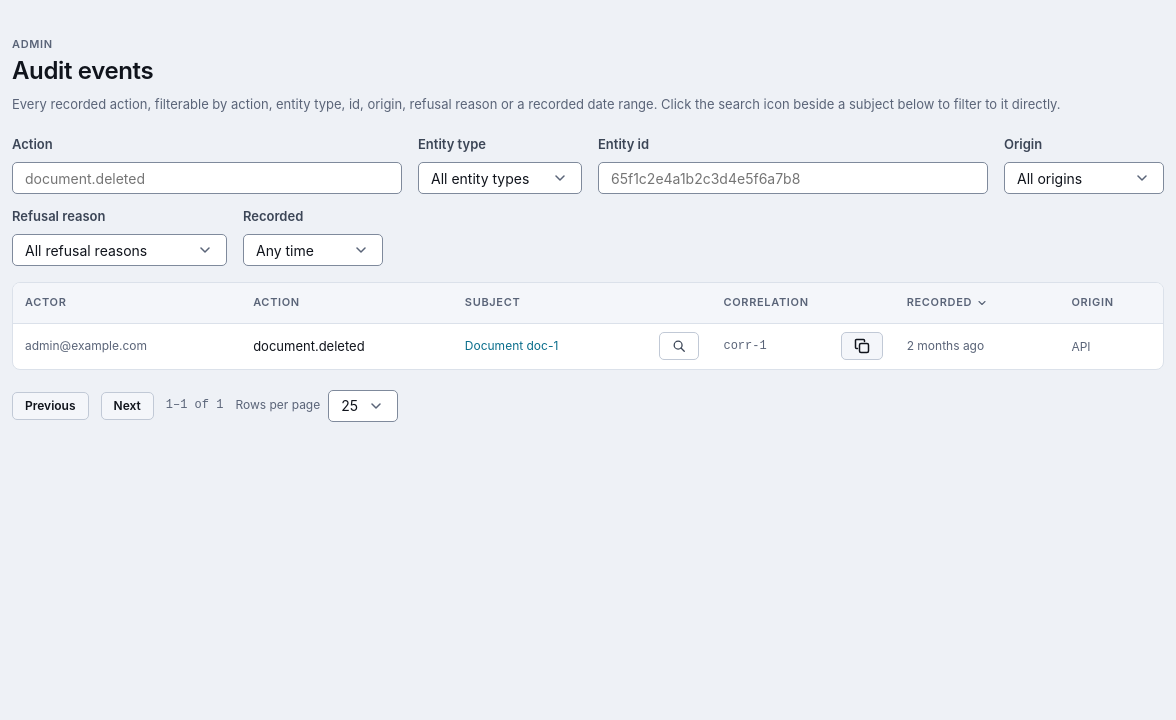
Test: AuditEventsPage › applies a custom recorded date range as from/to query parameters, echoed as one chip
Check: the text "document.deleted" is shown, box [241,324,453,369]
Select "Custom range" in the dropdown labelled "Recorded" at {"x": 313, "y": 250}, box [243,234,383,266]
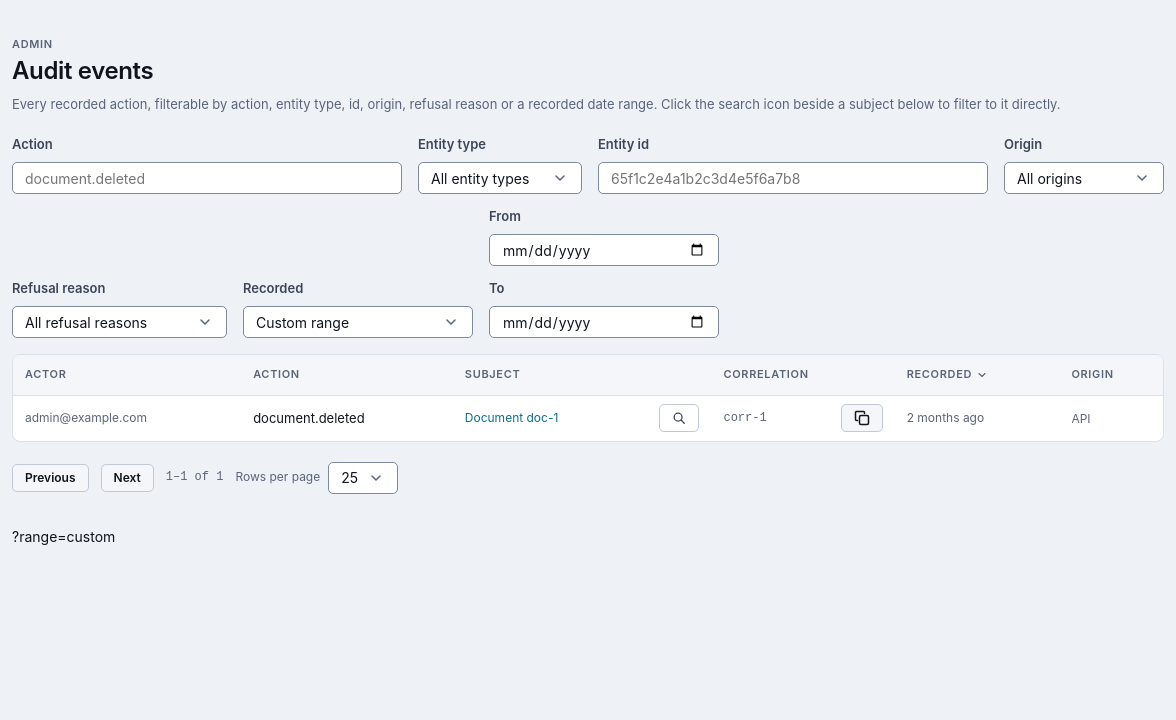
Check: the date field labelled "From" is empty
Type "2026-08-01" into the date field labelled "From" at {"x": 604, "y": 250}, box [489,234,719,266]
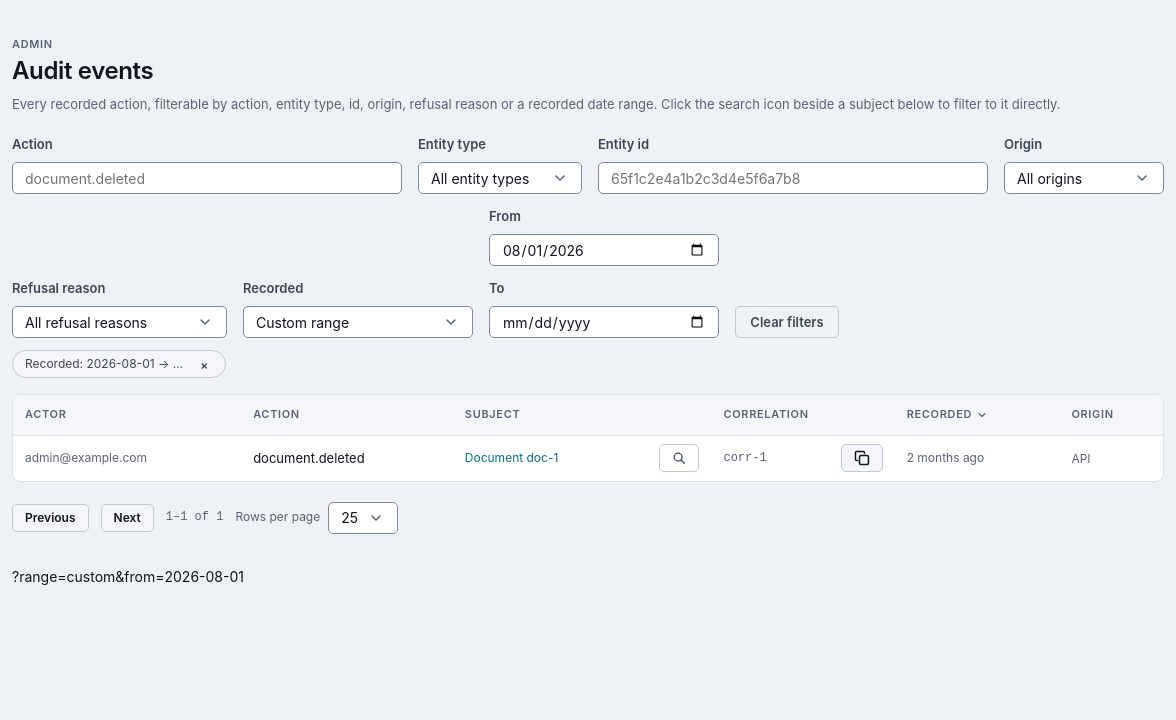
Type "2026-08-05" into the date field labelled "To" at {"x": 604, "y": 322}, box [489,306,719,338]
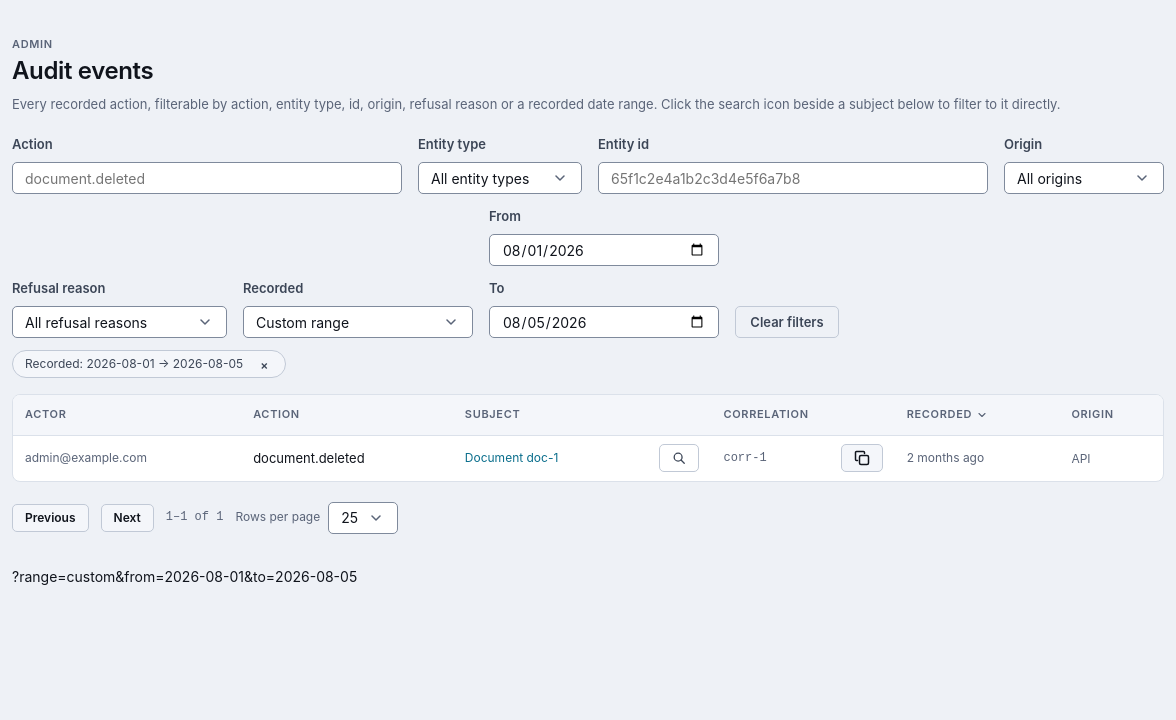
Check: the text "Recorded: 2026-08-01 → 2026-08-05" is shown, box [25,355,243,374]
Check: the text named "current search" reads "?range=custom&from=2026-08-01&to=2026-08-05", box [12,568,357,585]
